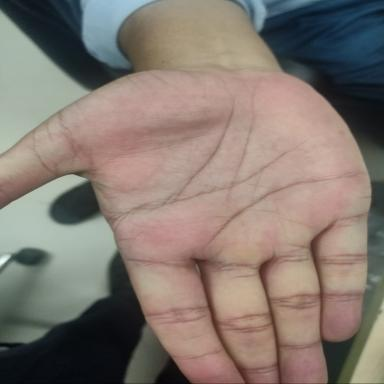normal skin: (1, 0, 370, 383)
